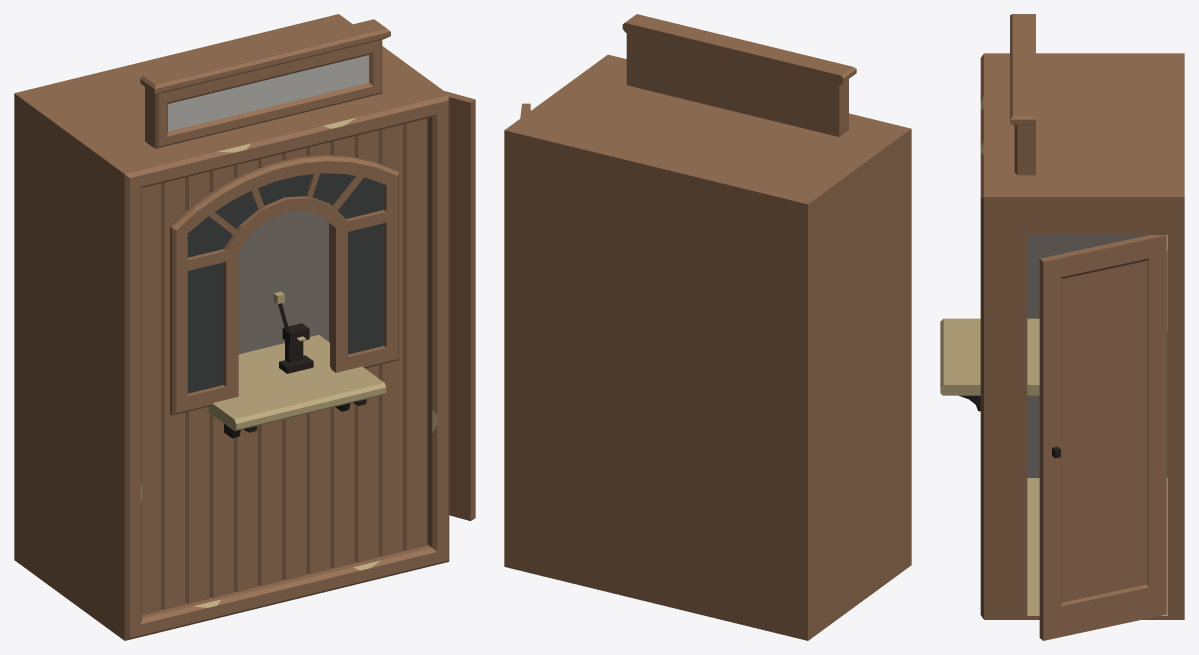
File: ticket-office-window-516c59.glb
The picture shows the model from 3 angles, left to right: view 1: azimuth 30°, elevation 25°; view 2: azimuth 150°, elevation 25°; view 3: azimuth 270°, elevation 25°; orthographic projection. The views are drawn at different scales.
Parts seen in each view (by area): view 1: window, glass, door-leaf; view 2: window; view 3: window, door-leaf.
Part boxes in pixels (x1,y1,x2,y2): window: [14, 14, 449, 640]; glass: [187, 173, 383, 393]; door-leaf: [444, 91, 475, 520]; window: [504, 14, 911, 640]; window: [940, 14, 1184, 619]; door-leaf: [1039, 235, 1166, 640].
Size of the model in its own units: 1.9 by 2.51 by 1.15.
